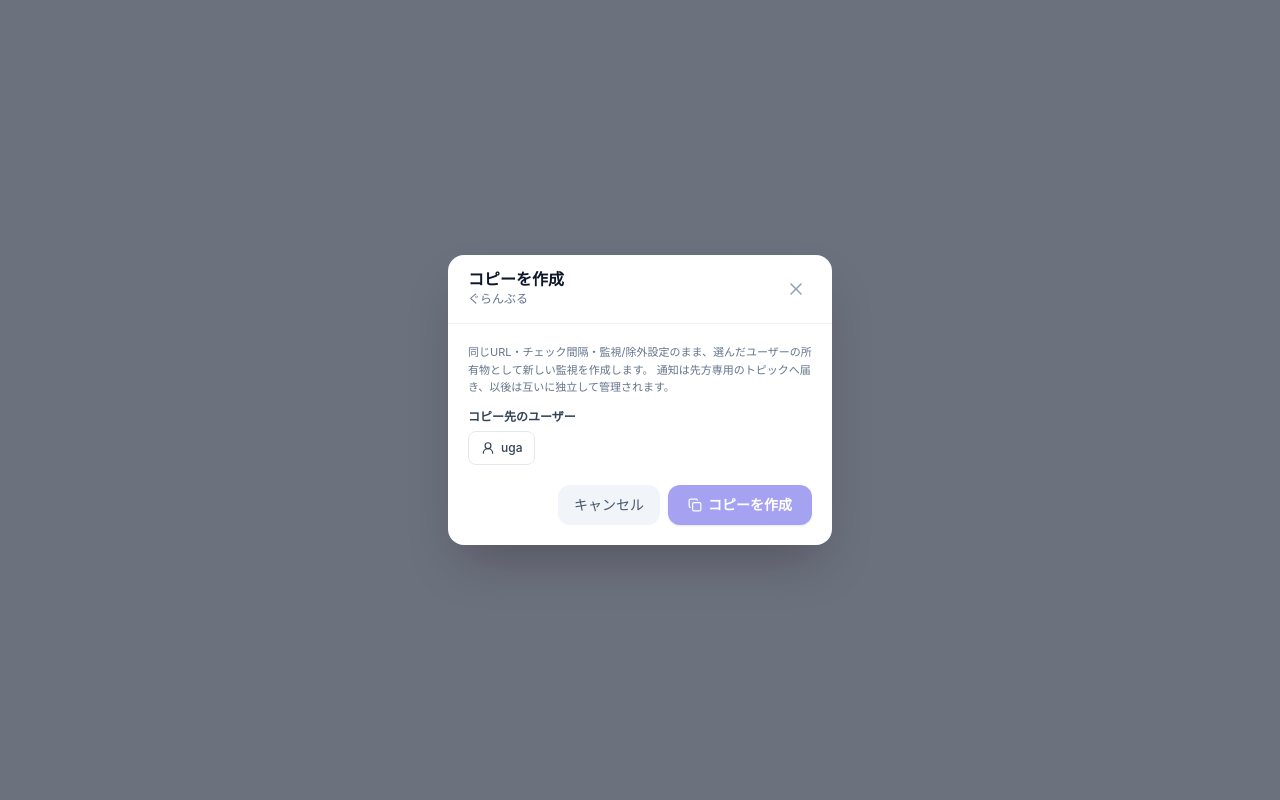
Test: CopyWatchModal › shows why the copy failed instead of closing
Click the button "uga". click: (502, 448)
box: [468,431,536,465]
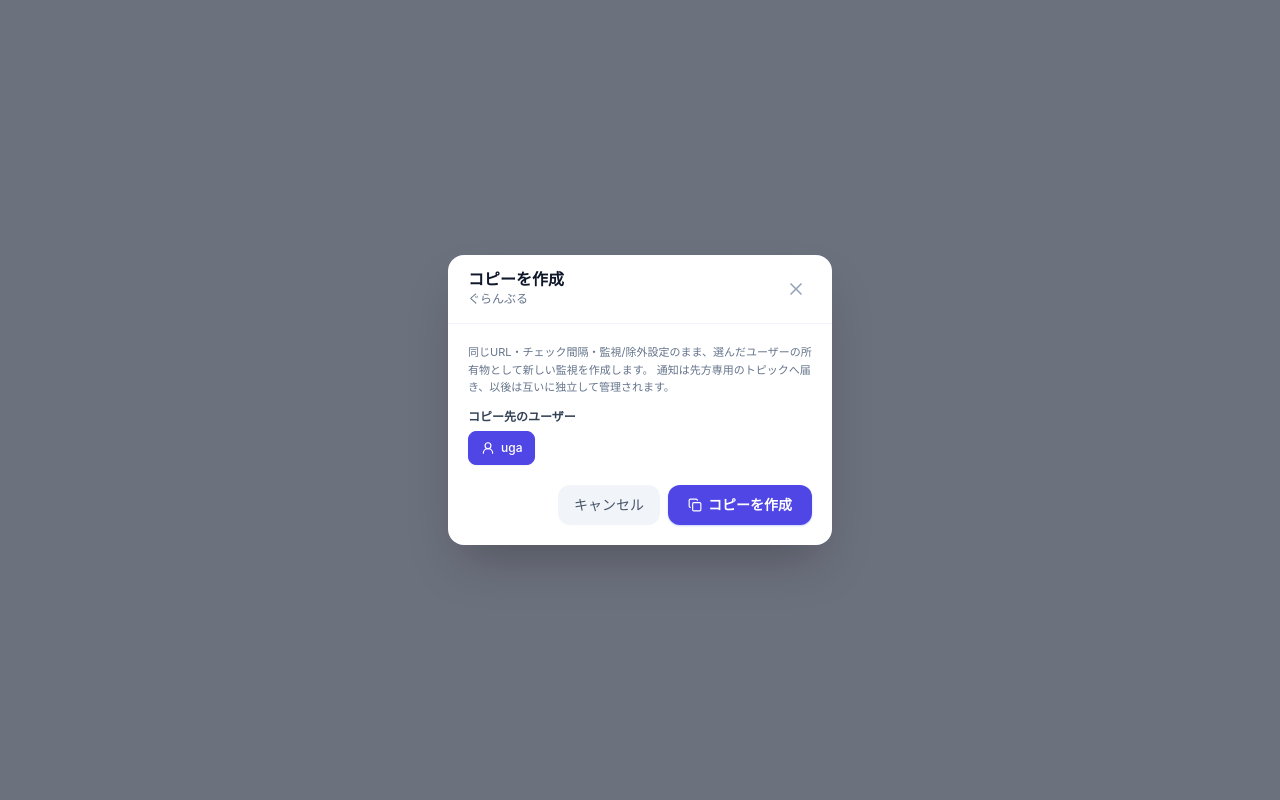
Click the button "コピーを作成". click: (740, 505)
box: [668,485,812,525]
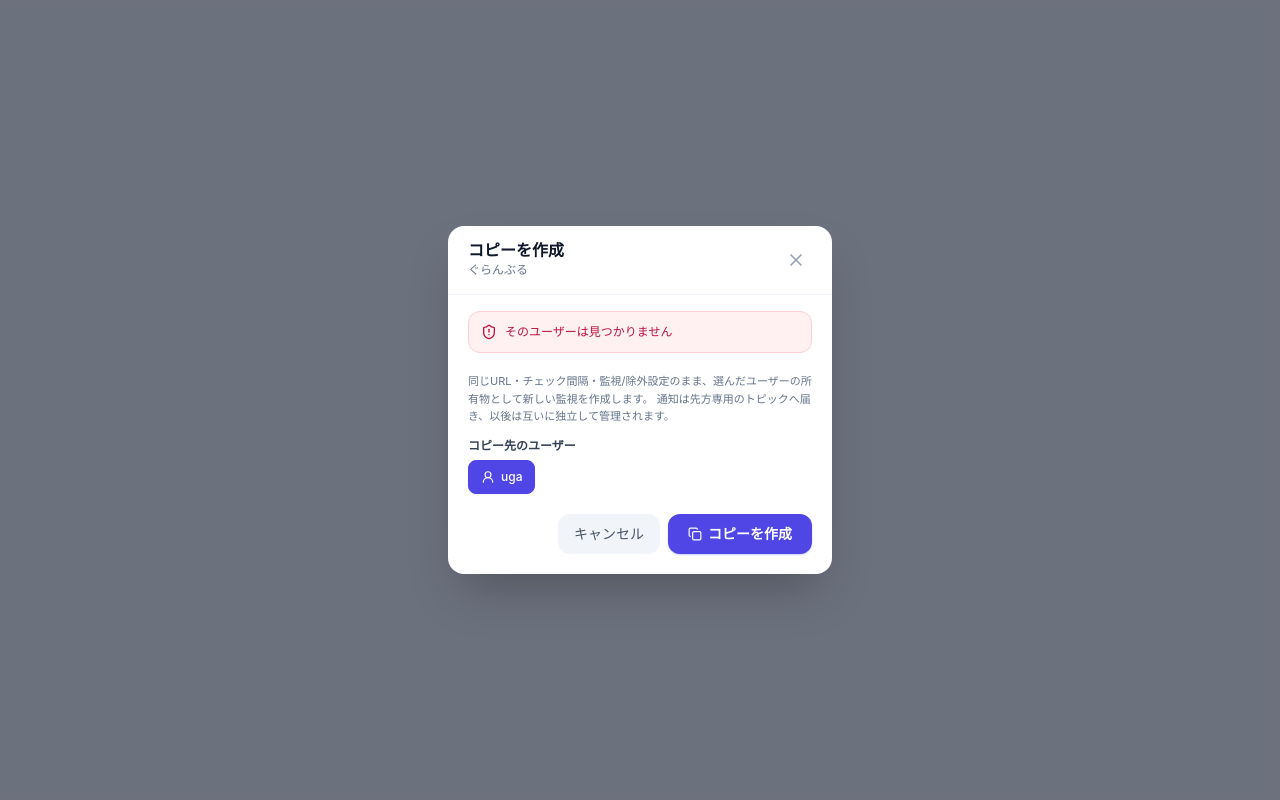
expect the text "そのユーザーは見つかりません" is shown: met, box [505,324,672,340]
